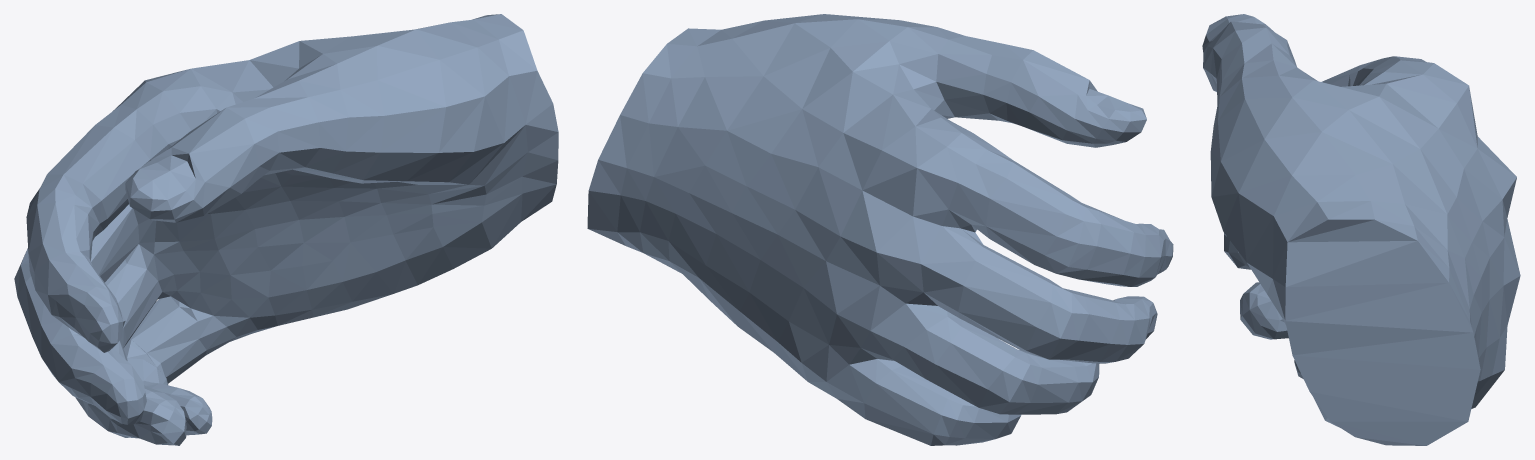
File: frame_00017_0.obj
The picture shows the model from 3 angles, left to right: view 1: azimuth 30°, elevation 25°; view 2: azimuth 150°, elevation 25°; view 3: azimuth 270°, elevation 25°; orthographic projection. The views are drawn at different scales.
Size of the model in its own units: 0.1533 by 0.1023 by 0.0763.
